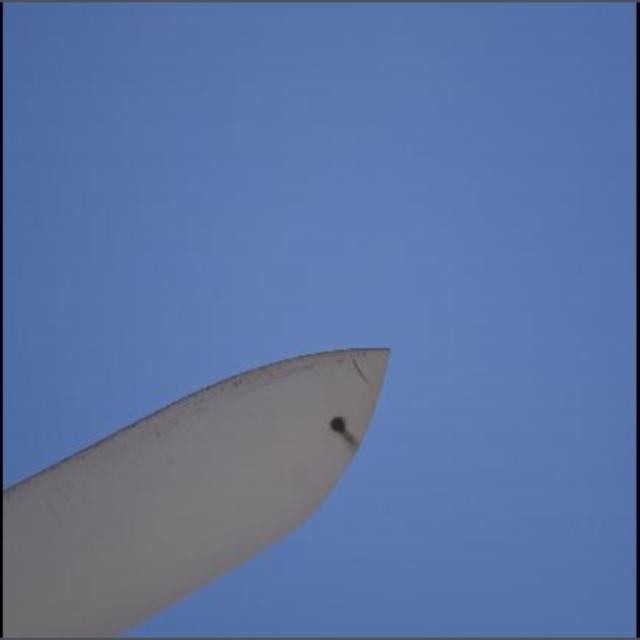Burn Mark: (325, 418, 360, 450)
Crack: (337, 347, 374, 388)
